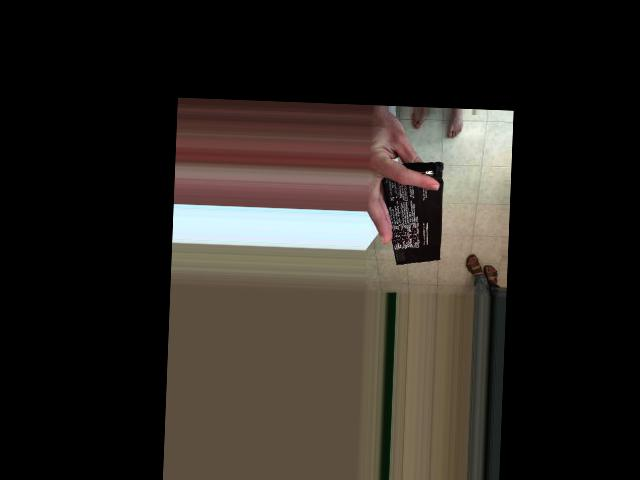chocolate: (376, 160, 445, 270)
